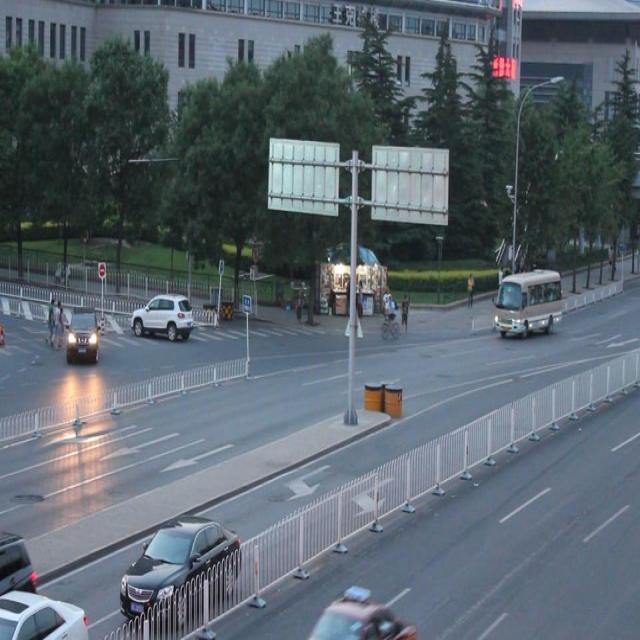car: (120, 516, 241, 626), (1, 585, 89, 640), (128, 292, 192, 342), (1, 523, 38, 609), (65, 302, 99, 362)
truck: (495, 272, 561, 335)
